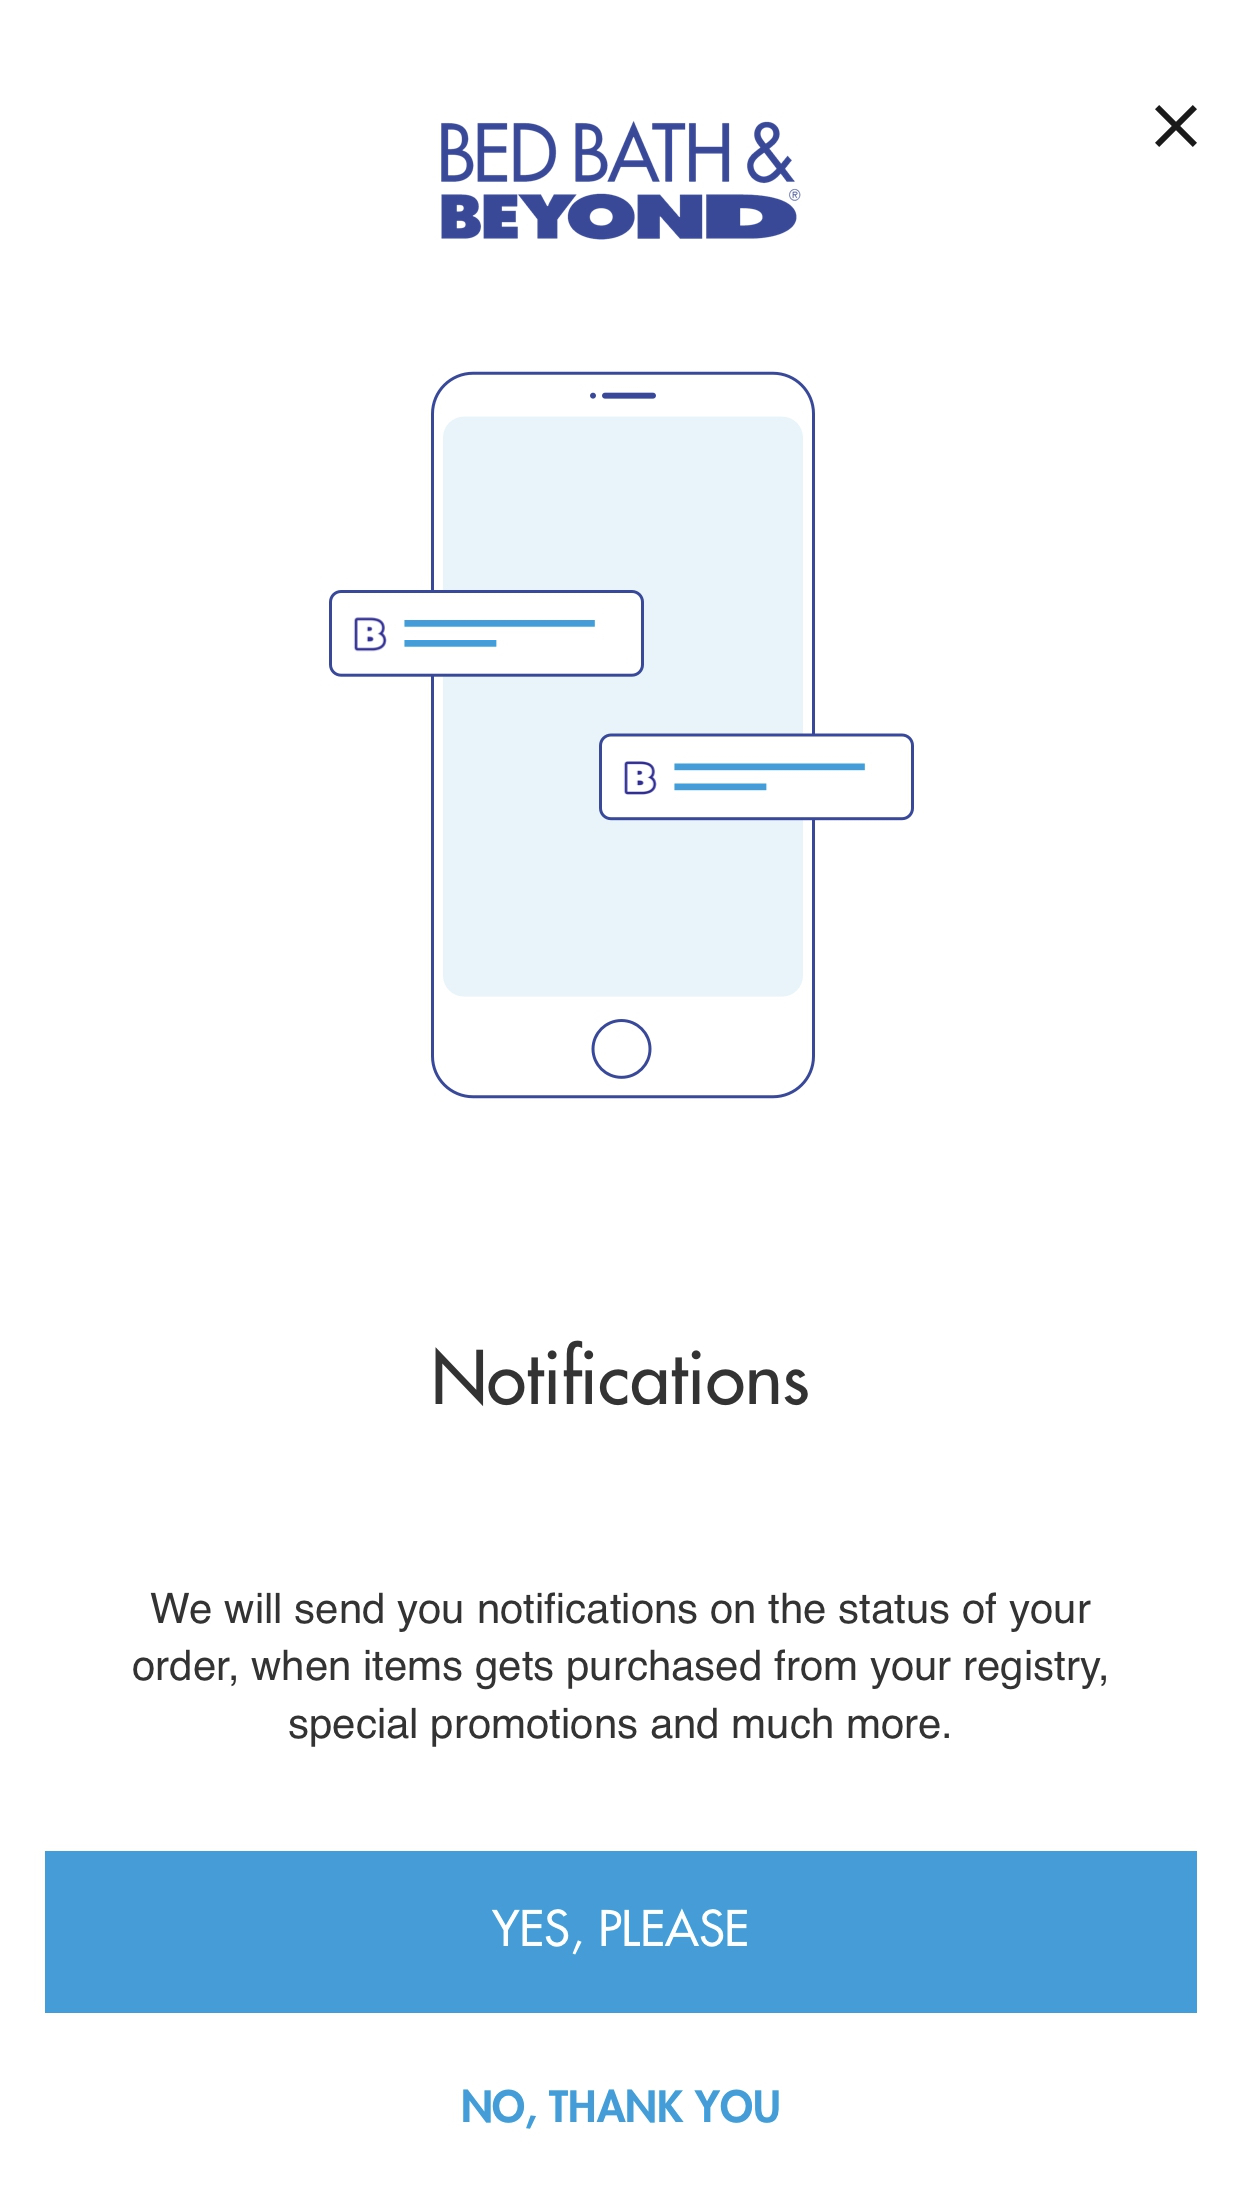Icon: (1154, 105, 1198, 149)
Image: (329, 372, 914, 1099)
Text: (133, 1591, 1107, 1749), (440, 121, 802, 241), (435, 1341, 808, 1407), (463, 2088, 779, 2131)
TextButton: (45, 1850, 1198, 2014)
